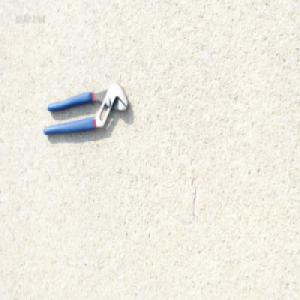Pliers: (42, 81, 129, 137)
